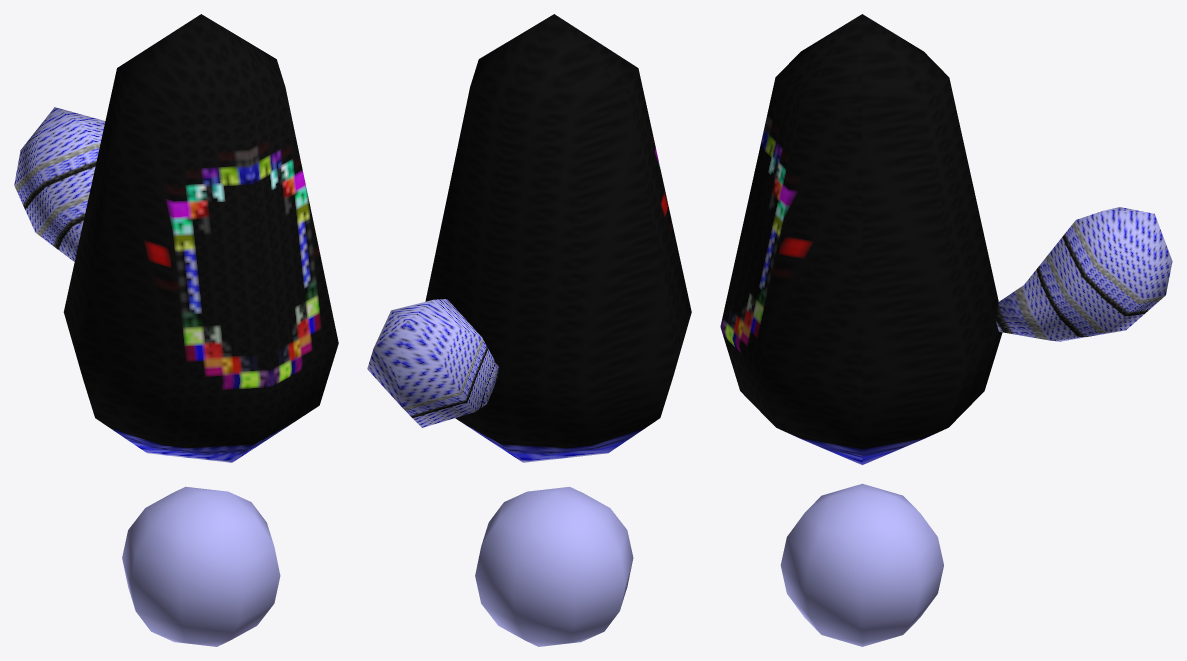
File: cloth_tanukimario_model.glb
3 views of the same model, side by side, from view 1: azimuth 30°, elevation 25°; view 2: azimuth 150°, elevation 25°; view 3: azimuth 270°, elevation 25° (orthographic).
Visible parts, largest first — view 1: cloth_tanukimario_model; view 2: cloth_tanukimario_model; view 3: cloth_tanukimario_model.
Boxes of the visible parts, bbox=[...] form: cloth_tanukimario_model: bbox=[14, 14, 338, 646]; cloth_tanukimario_model: bbox=[367, 14, 691, 646]; cloth_tanukimario_model: bbox=[720, 14, 1172, 646].
Bounding box in the file's own units: 35.53 × 86.34 × 56.57.
Materials: 1 (1 with a texture image).
